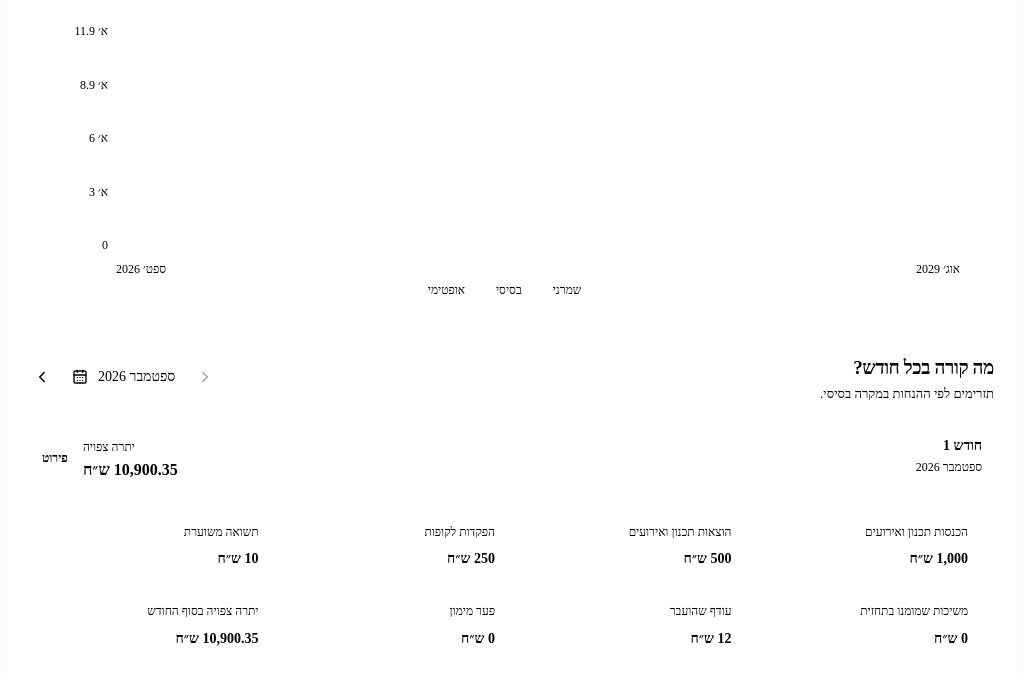
Test: Forecast results › browses months with bounded shared dates and distinguishes swept surplus by pool
(page scrolled)
Click the button named "חודש בתחזית: החודש הבא" at {"x": 42, "y": 377}, box [26,358,58,396]
(page scrolled)
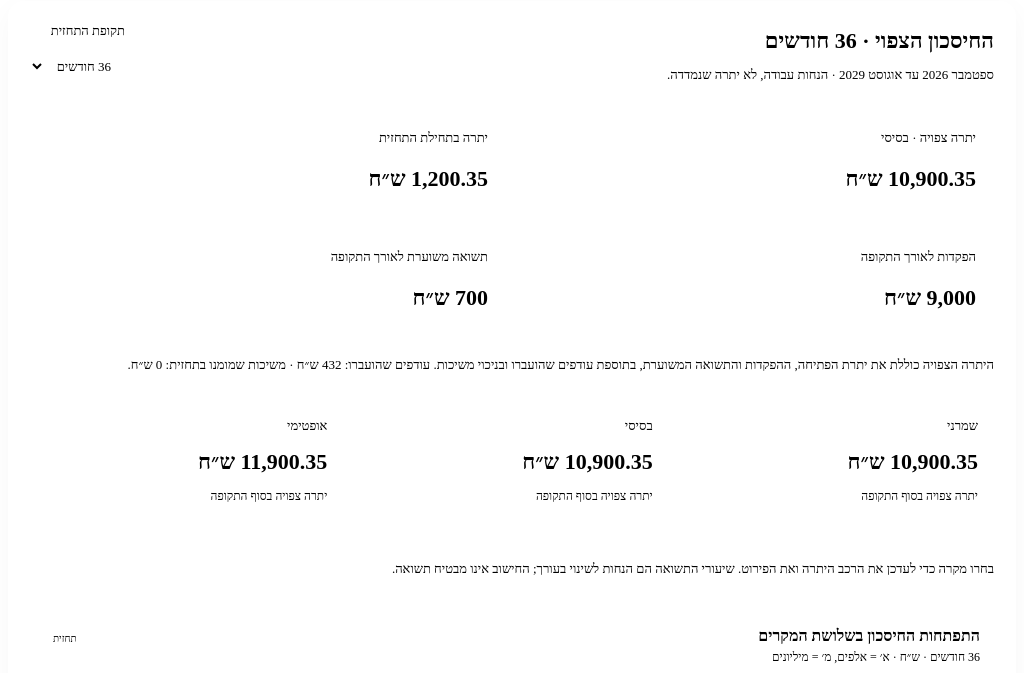
Select "12 חודשים" in the dropdown named "אופק תחזית" at {"x": 78, "y": 66}, box [30,45,125,88]
(page scrolled)
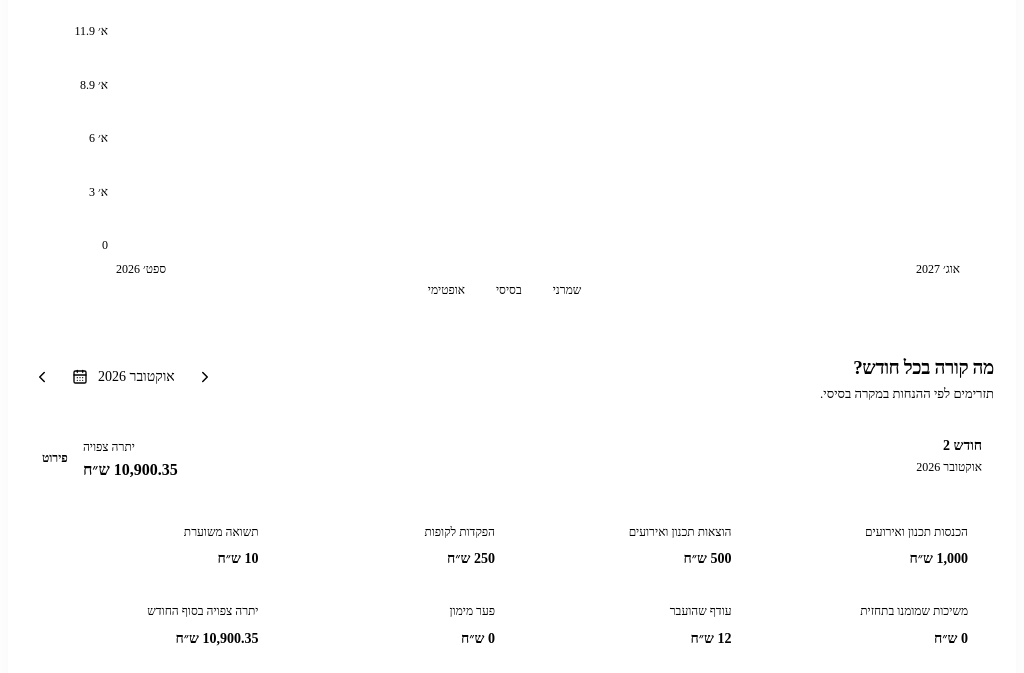
Click the button with aria-label "חודש בתחזית" at {"x": 123, "y": 377}, box [58,358,189,396]
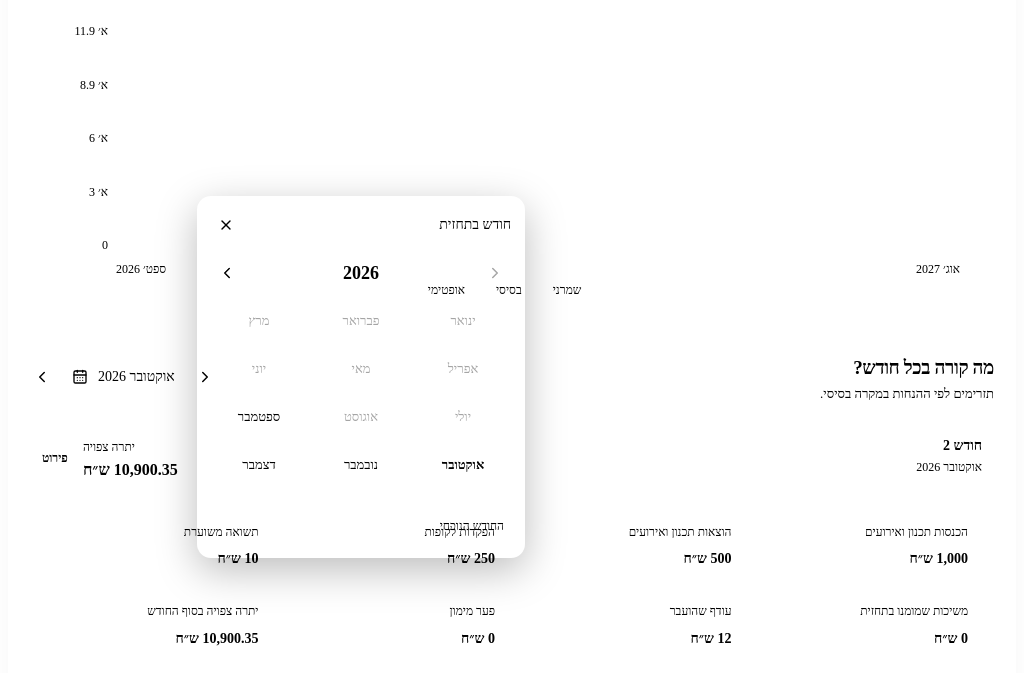
Click the button named "השנה הבאה" at {"x": 227, "y": 273}, box [211,254,243,292]
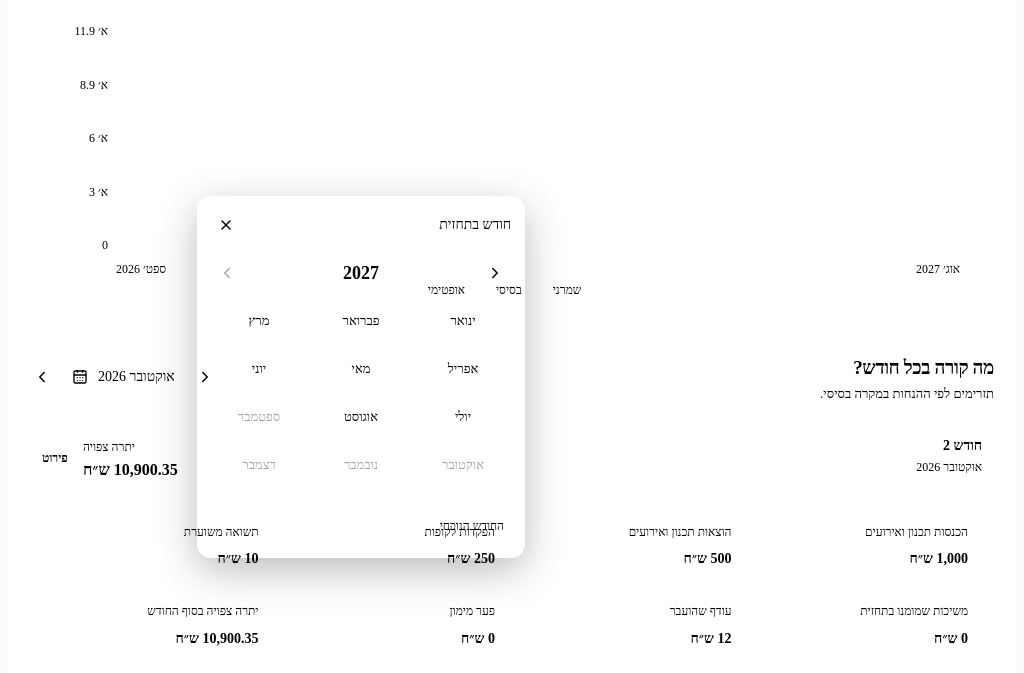
Expected: the button with aria-label "אוגוסט 2027" is enabled
Expected: the button with aria-label "ספטמבר 2027" is disabled, [211,396,307,438]
Click the button with aria-label "אוגוסט 2027" at {"x": 361, "y": 417}, box [313,396,409,438]
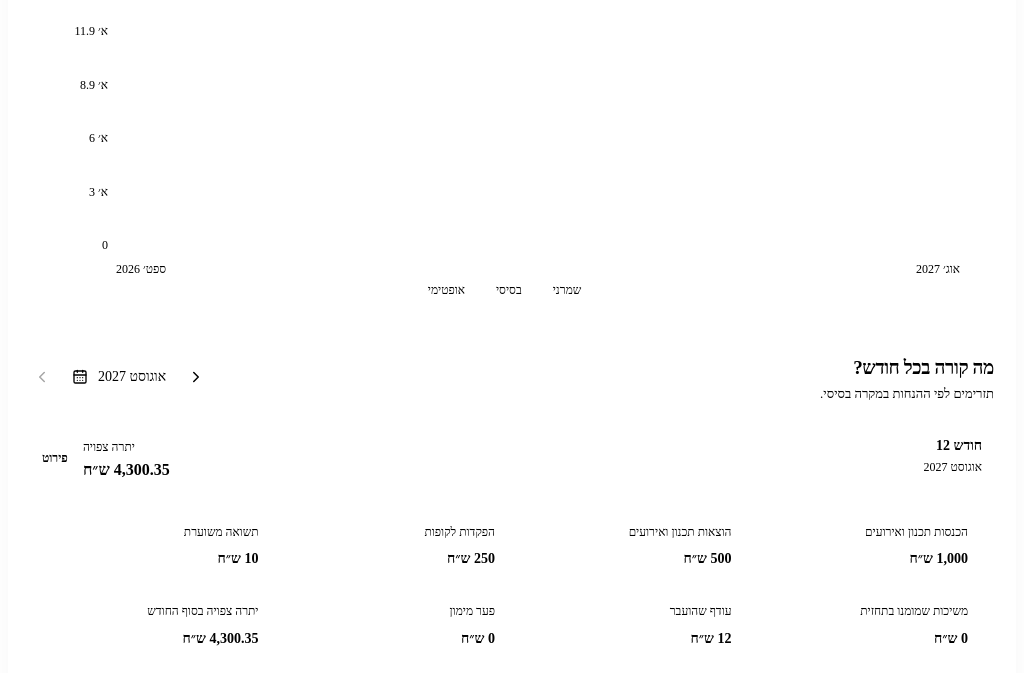
Expected: the text "חודש 12" is shown, [936,438,982,453]
